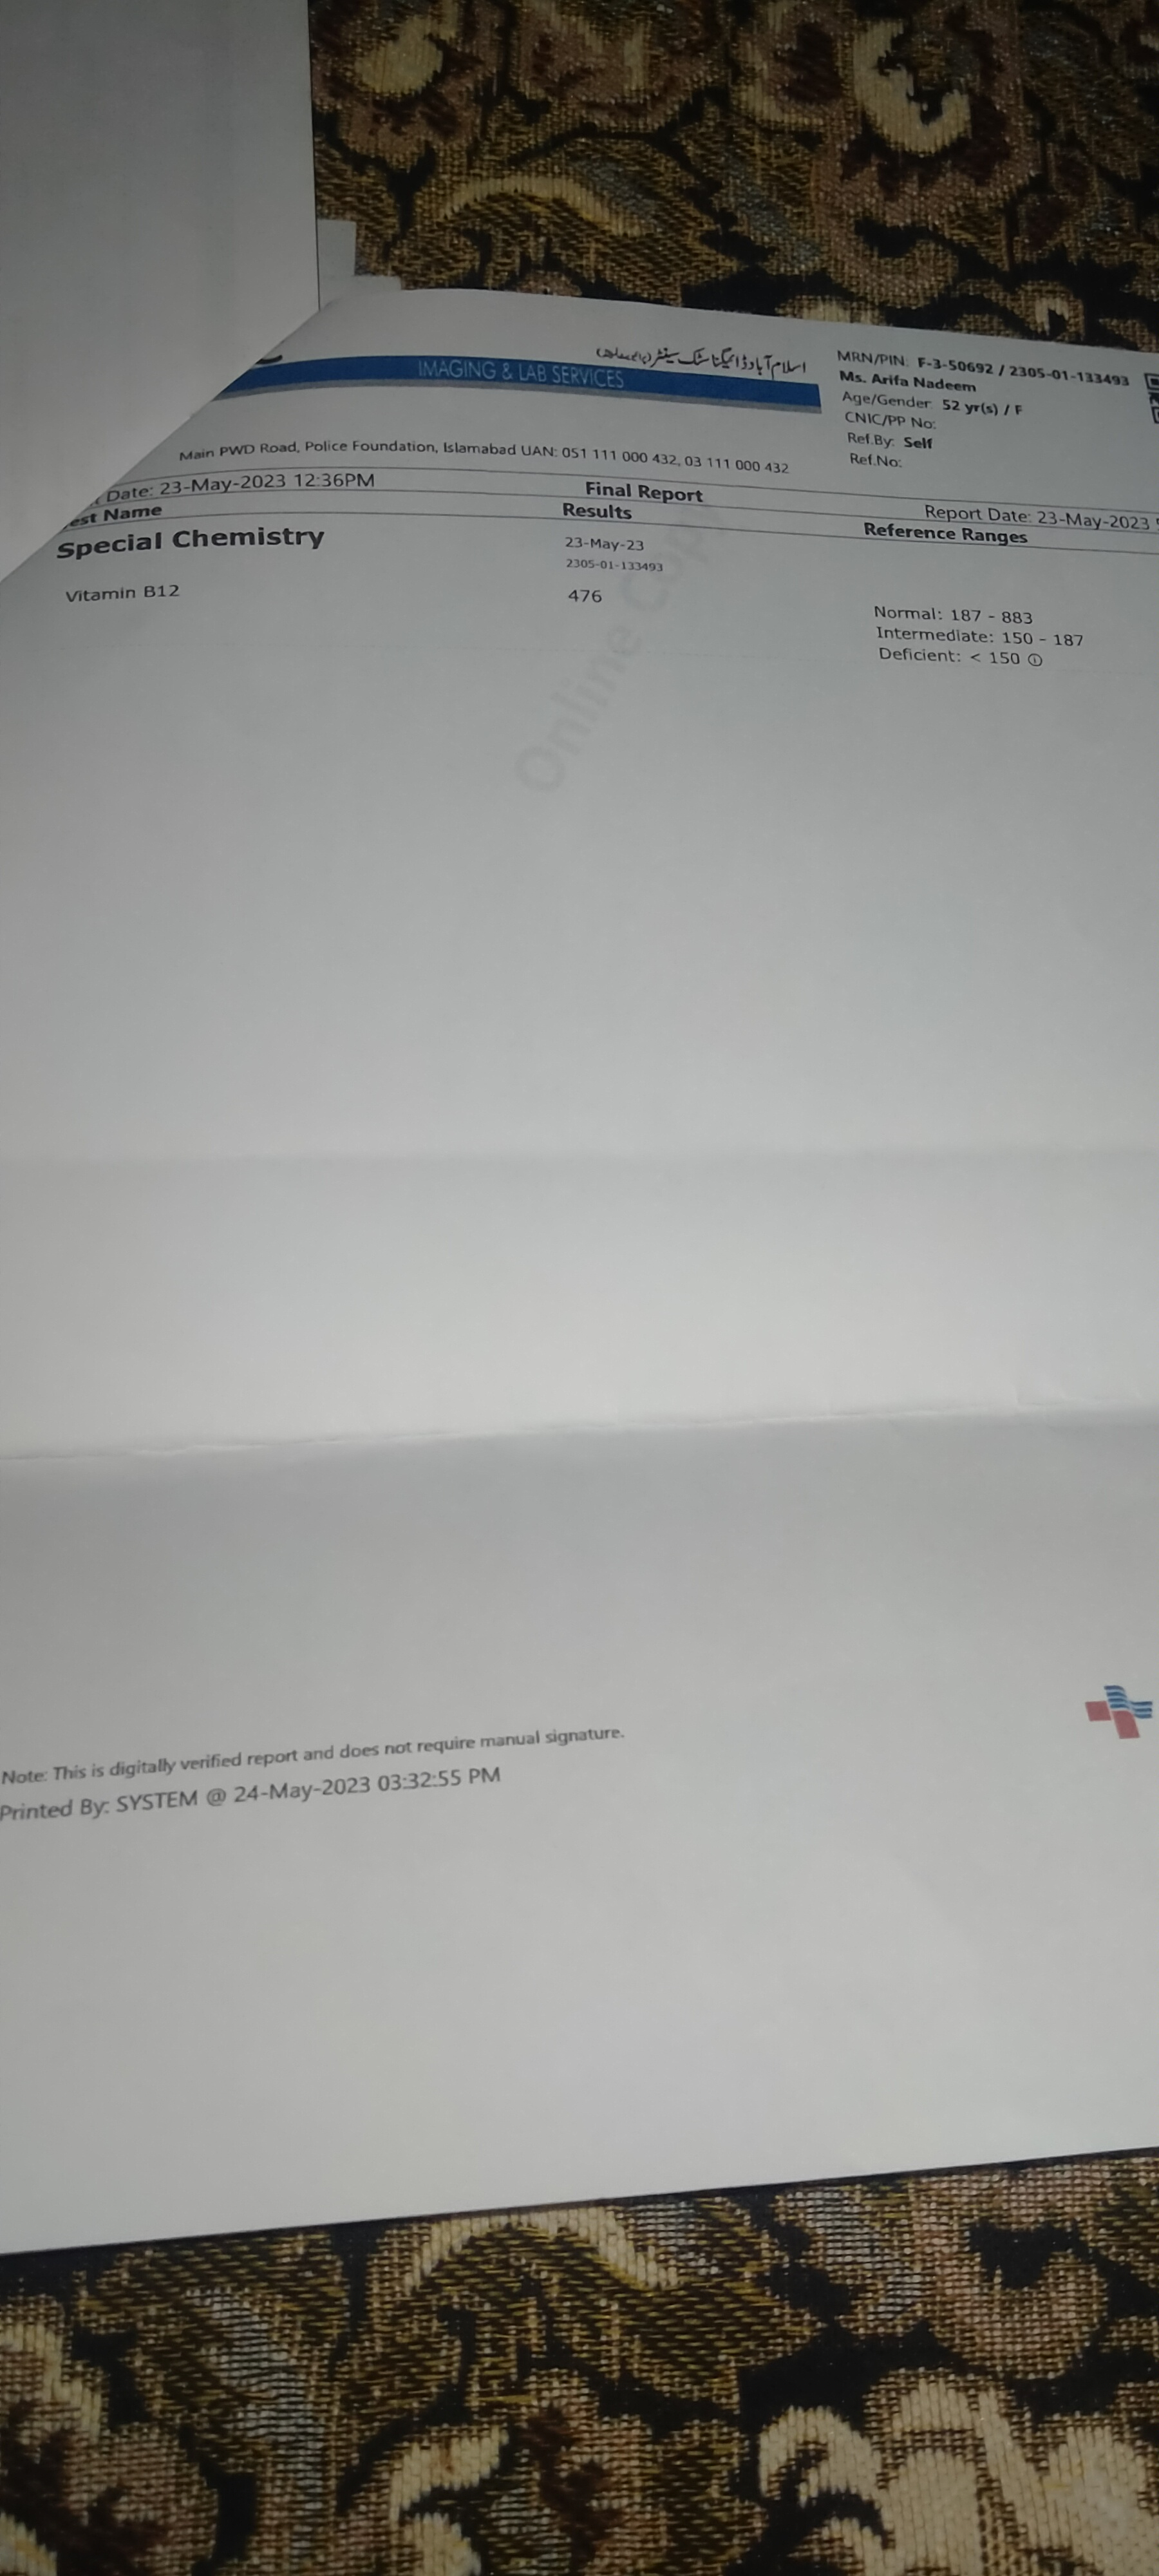report: (36, 495, 1159, 688)
